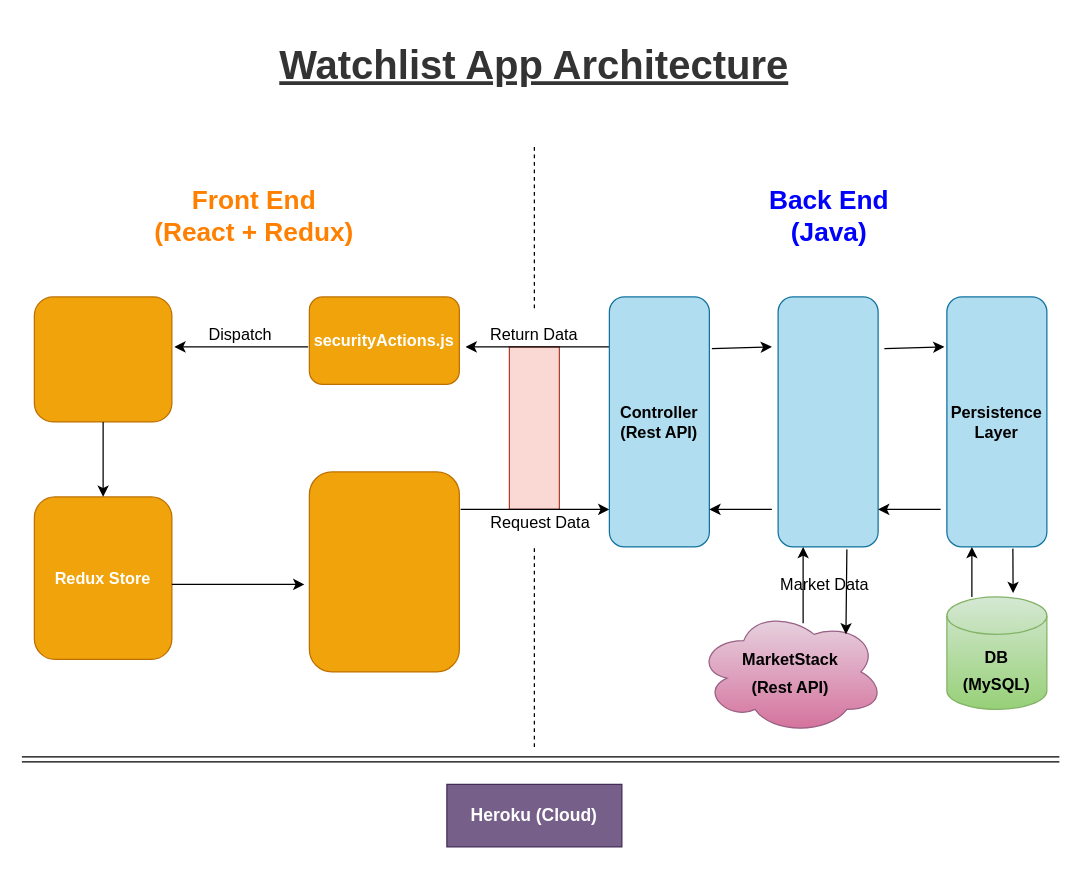
Image size: 1081x869. Some labels were removed from this diagram. The shapes that lost their labels are listed below. From the top down, each one's centre as x and y in pixels, then its label:
point 102,359: securityReducer (returns state, loads payload)
point 533,427: axios
point 827,421: Service Layer
point 383,571: Components (Watchlist.js, WatchItem.js, Security.js)
